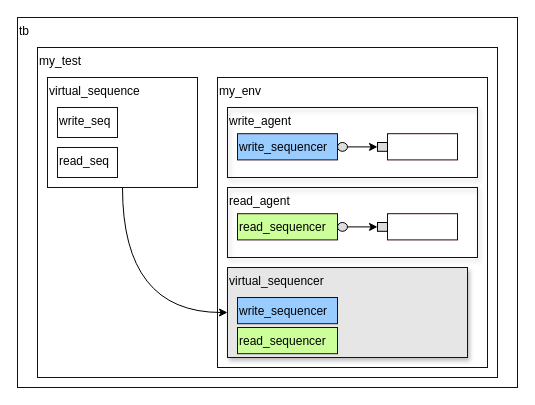
This 535x405 diagram has some shape labels left out. The shapes that lost their labels are listed below. From the top down, each one's centre as x and y in pixels, then its label:
point 422,146: write_driver
point 422,226: read_driver
